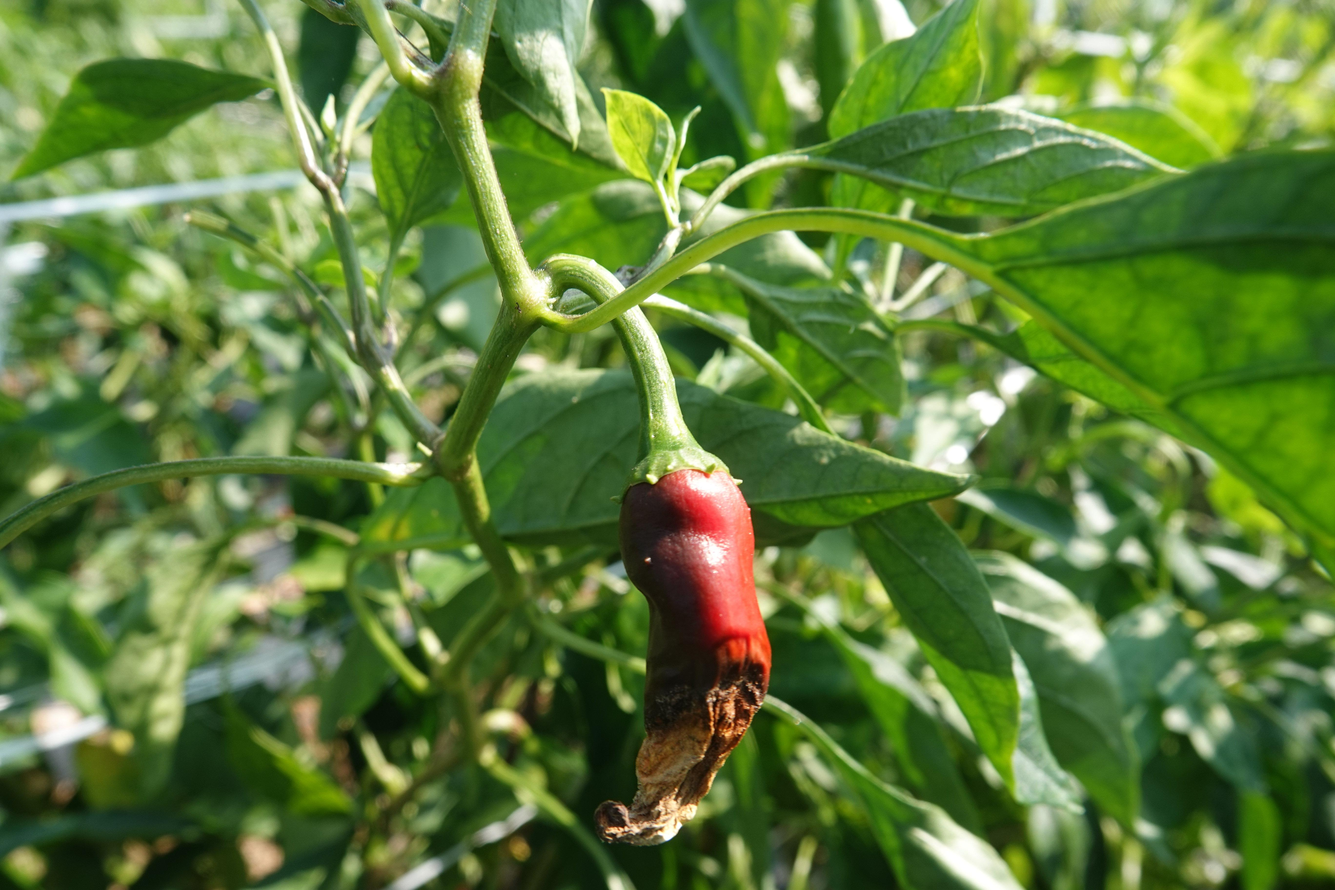Busuk Buah Antraknosa: (592, 455, 774, 848)
